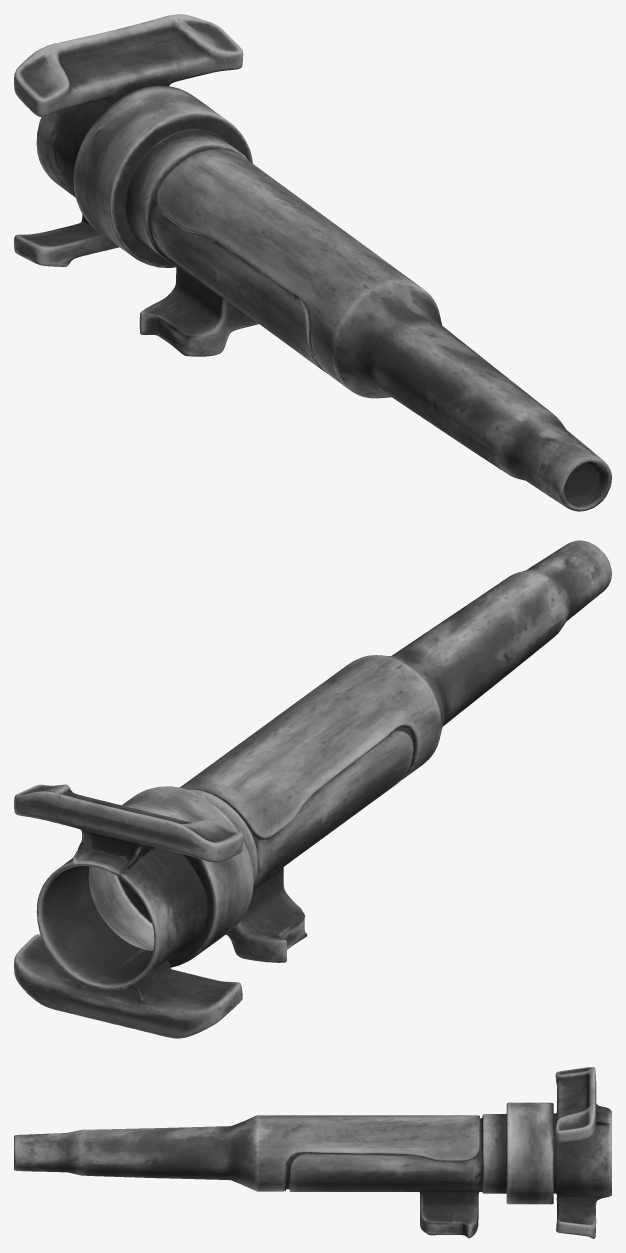
File: bolt.glb
The picture shows the model from 3 angles, top to bottom: view 1: azimuth 30°, elevation 25°; view 2: azimuth 150°, elevation 25°; view 3: azimuth 270°, elevation 25°; orthographic projection. The views are drawn at different scales.
Parts seen in each view (by area): view 1: geometry_0; view 2: geometry_0; view 3: geometry_0.
Part boxes in pixels (bbox=[...]): geometry_0: bbox=[14, 14, 611, 511]; geometry_0: bbox=[14, 540, 611, 1038]; geometry_0: bbox=[14, 1067, 611, 1238].
Size of the model in its own units: 0.2455 by 0.2435 by 1.
Materials: 1 (1 with a texture image).
